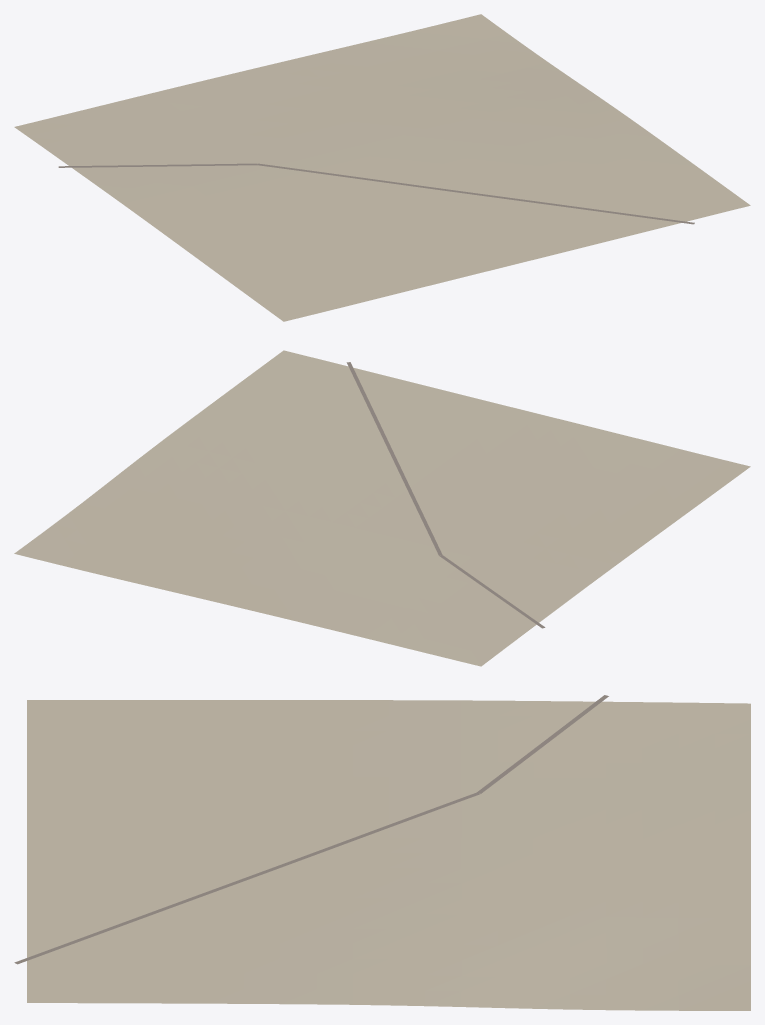
Rendered from bolak_19_-8.glb.
3 renders of one model, top to bottom at view 1: azimuth 30°, elevation 25°; view 2: azimuth 150°, elevation 25°; view 3: azimuth 270°, elevation 25°, orthographic. The views are drawn at different scales.
Parts seen in each view (by area): view 1: Yer_Tuproq-col, Temir_Yol; view 2: Yer_Tuproq-col, Temir_Yol; view 3: Yer_Tuproq-col, Temir_Yol.
Part boxes in pixels (x1=…): Yer_Tuproq-col: x1=14, y1=14, x2=750, y2=321; Temir_Yol: x1=58, y1=163, x2=694, y2=224; Yer_Tuproq-col: x1=14, y1=350, x2=750, y2=666; Temir_Yol: x1=346, y1=362, x2=545, y2=628; Yer_Tuproq-col: x1=27, y1=700, x2=750, y2=1010; Temir_Yol: x1=14, y1=695, x2=608, y2=964.
Bounding box in the file's own units: 409 × 4.99 × 407.
